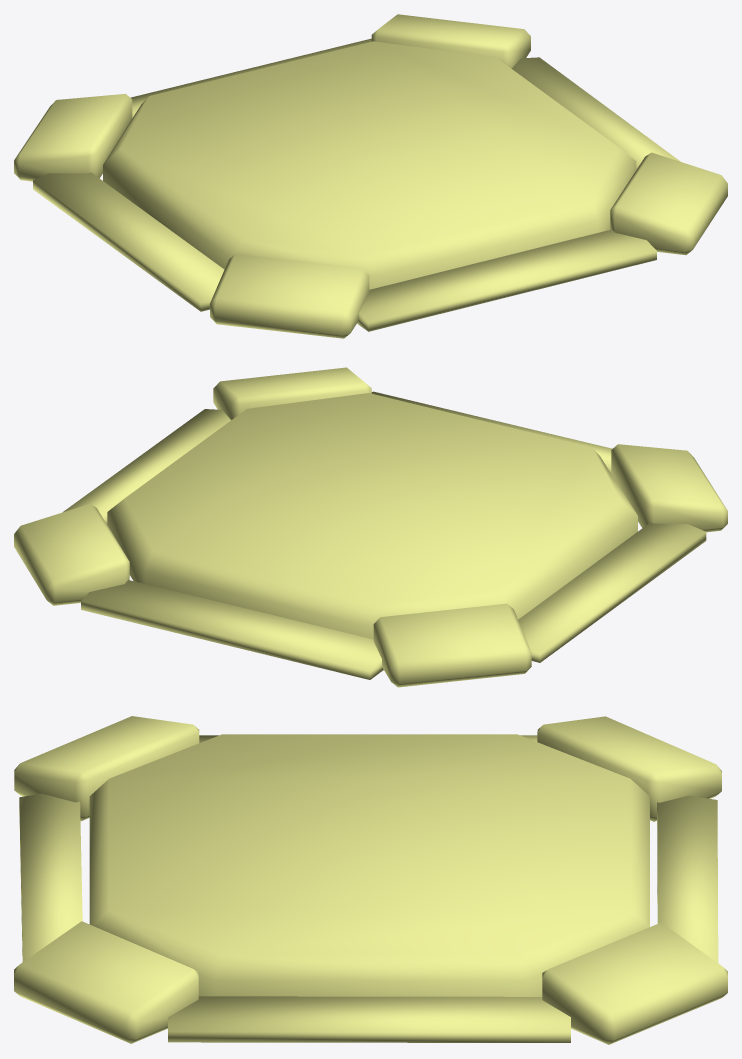
The model's file is PreassurePlateMesh01.fbx.
3 views of the same model, one above another, from view 1: azimuth 30°, elevation 25°; view 2: azimuth 150°, elevation 25°; view 3: azimuth 270°, elevation 25° (orthographic). The views are drawn at different scales.
Parts seen in each view (by area): view 1: PreassurePlateMesh01_low, PreassurePlateCornersMesh01_low, PreassurePlateFrameMesh01_low; view 2: PreassurePlateMesh01_low, PreassurePlateCornersMesh01_low, PreassurePlateFrameMesh01_low; view 3: PreassurePlateMesh01_low, PreassurePlateCornersMesh01_low, PreassurePlateFrameMesh01_low.
Boxes of the visible parts, bbox=[...] form: PreassurePlateMesh01_low: bbox=[103, 41, 636, 289]; PreassurePlateCornersMesh01_low: bbox=[14, 14, 727, 338]; PreassurePlateFrameMesh01_low: bbox=[33, 38, 680, 331]; PreassurePlateMesh01_low: bbox=[107, 393, 637, 639]; PreassurePlateCornersMesh01_low: bbox=[14, 367, 727, 687]; PreassurePlateFrameMesh01_low: bbox=[62, 391, 706, 679]; PreassurePlateMesh01_low: bbox=[89, 734, 649, 996]; PreassurePlateCornersMesh01_low: bbox=[14, 716, 727, 1044]; PreassurePlateFrameMesh01_low: bbox=[19, 735, 718, 1042].
Size of the model in its own units: 2.55 by 0.2019 by 2.55.
